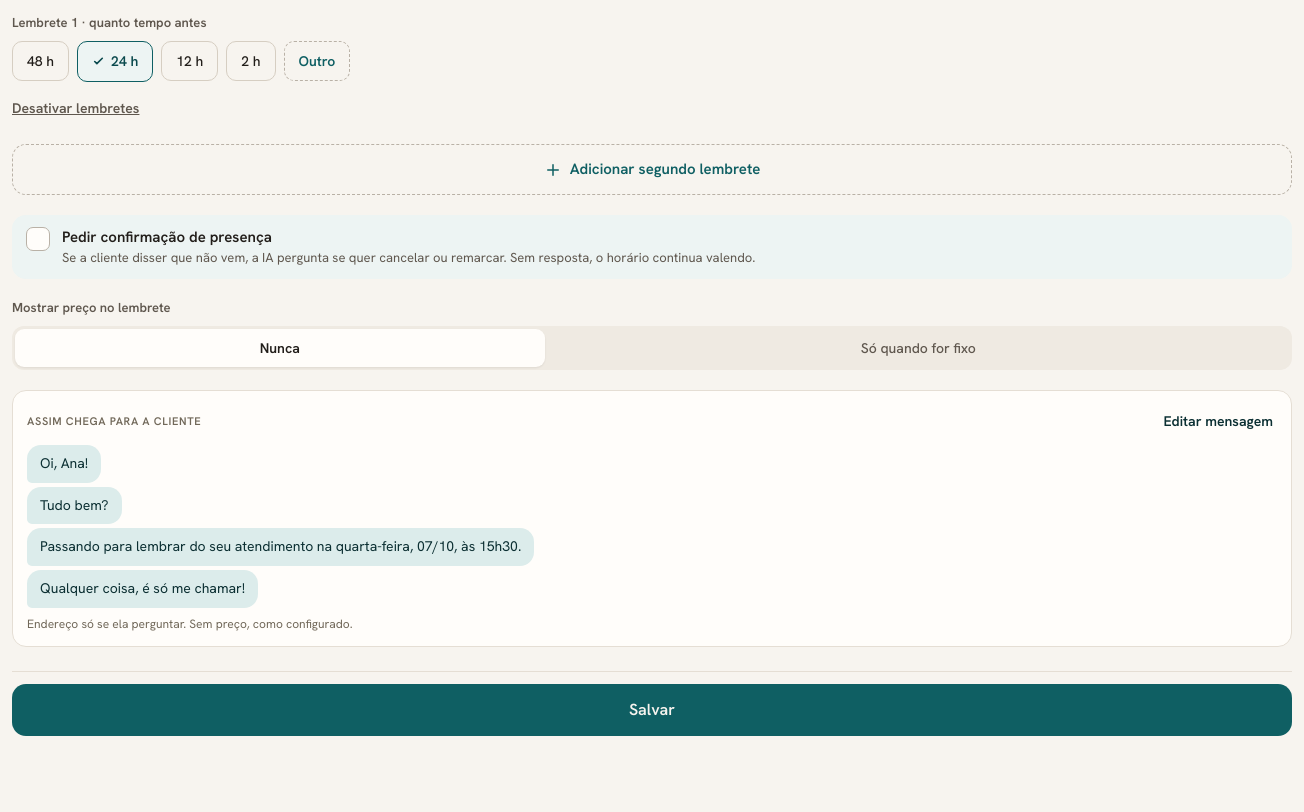
Scenario: salvar › valor 0 em 'Outro' é recusado, sem requisição
Click the button "Outro" at (317, 61), box left=284, top=41, right=350, bottom=81
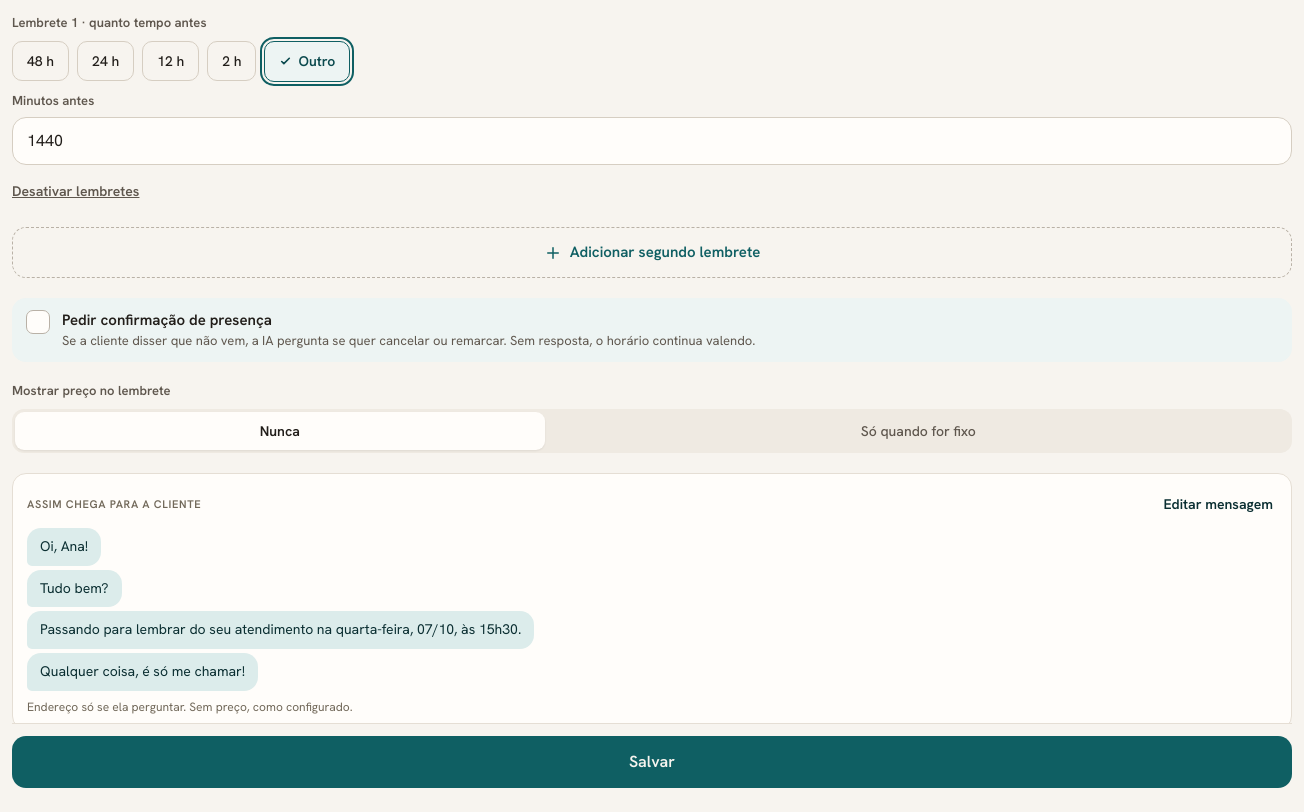
Replace the text in the number field labelled "Minutos antes" with "0" at (652, 141), box left=12, top=117, right=1292, bottom=165
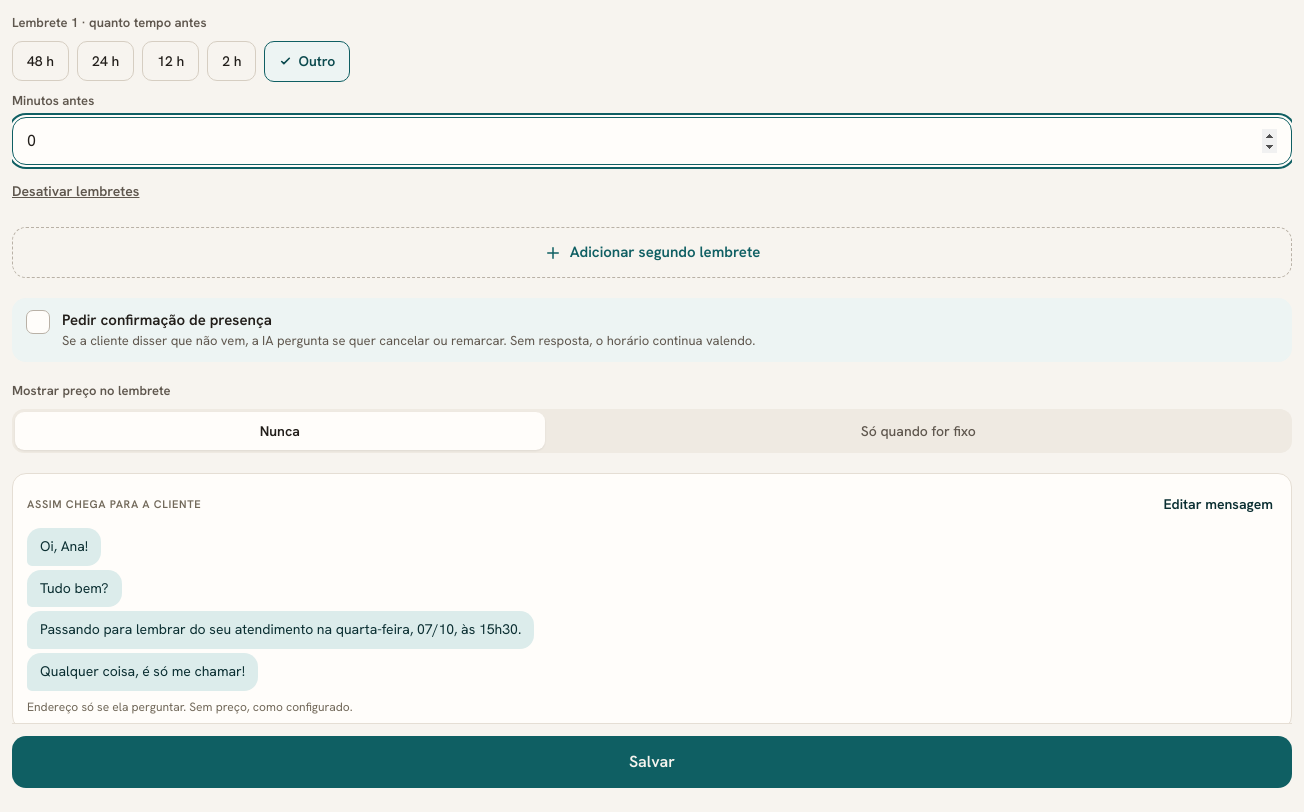
Click the button "Salvar" at (652, 762), box left=12, top=736, right=1292, bottom=788
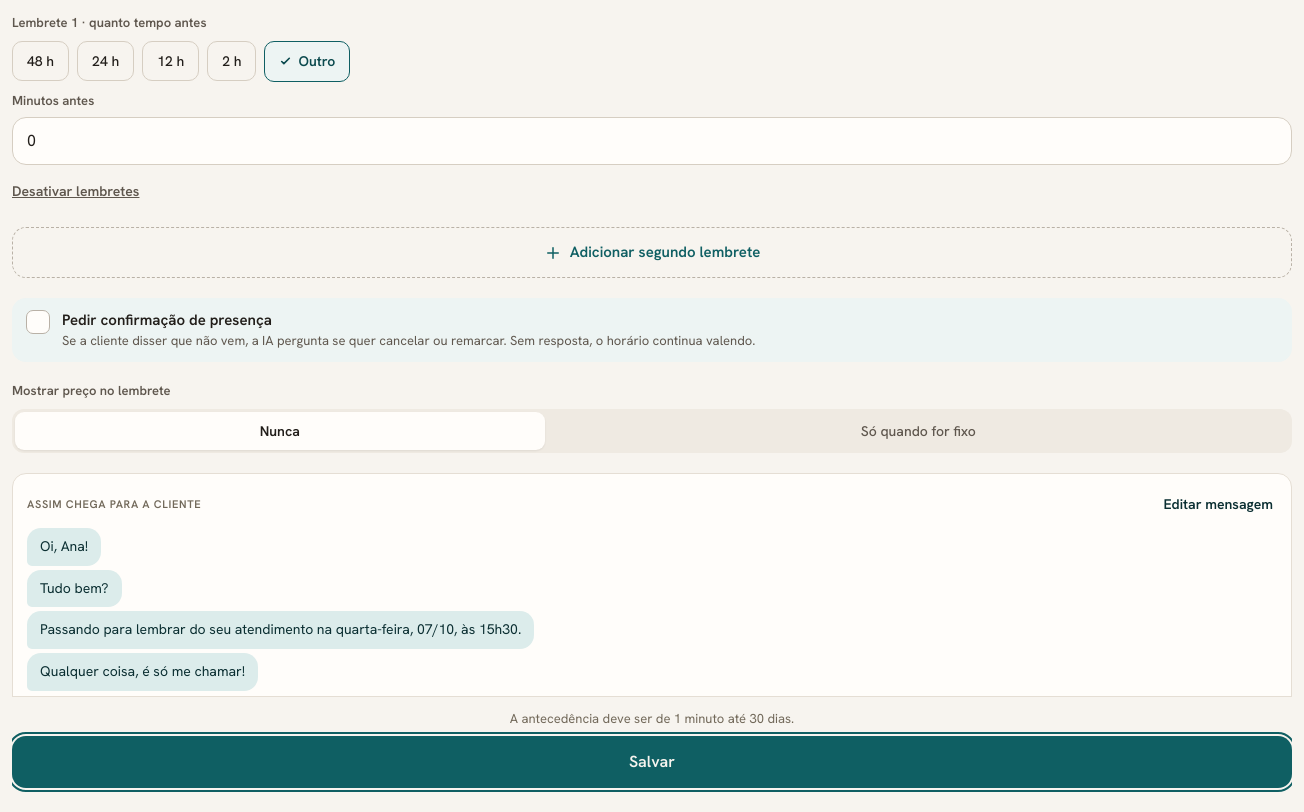
Expected: the text "A antecedência deve ser de 1 minuto até 30 dias." is shown, left=510, top=710, right=794, bottom=726
